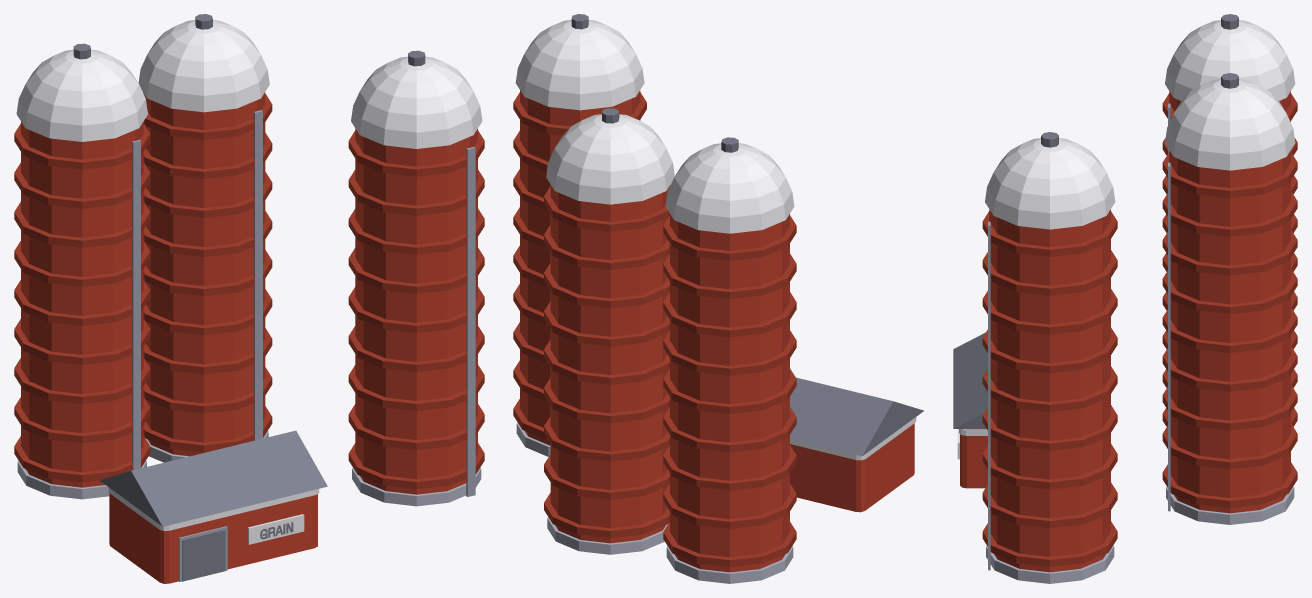
Rendered from silo-2x2-t9-tone-a.glb.
3 renders of one model, left to right at view 1: azimuth 30°, elevation 25°; view 2: azimuth 150°, elevation 25°; view 3: azimuth 270°, elevation 25°, orthographic. The views are drawn at different scales.
Parts seen in each view (by area): view 1: silo-2x2-t9-tone-a; view 2: silo-2x2-t9-tone-a; view 3: silo-2x2-t9-tone-a.
Boxes of the visible parts, left/top/right/bottom form: silo-2x2-t9-tone-a: left=14, top=14, right=484, bottom=583; silo-2x2-t9-tone-a: left=513, top=14, right=923, bottom=583; silo-2x2-t9-tone-a: left=953, top=14, right=1297, bottom=583.
Bounding box in the file's own units: 1.84 × 2.07 × 1.53.
1 material, 1 textured.
